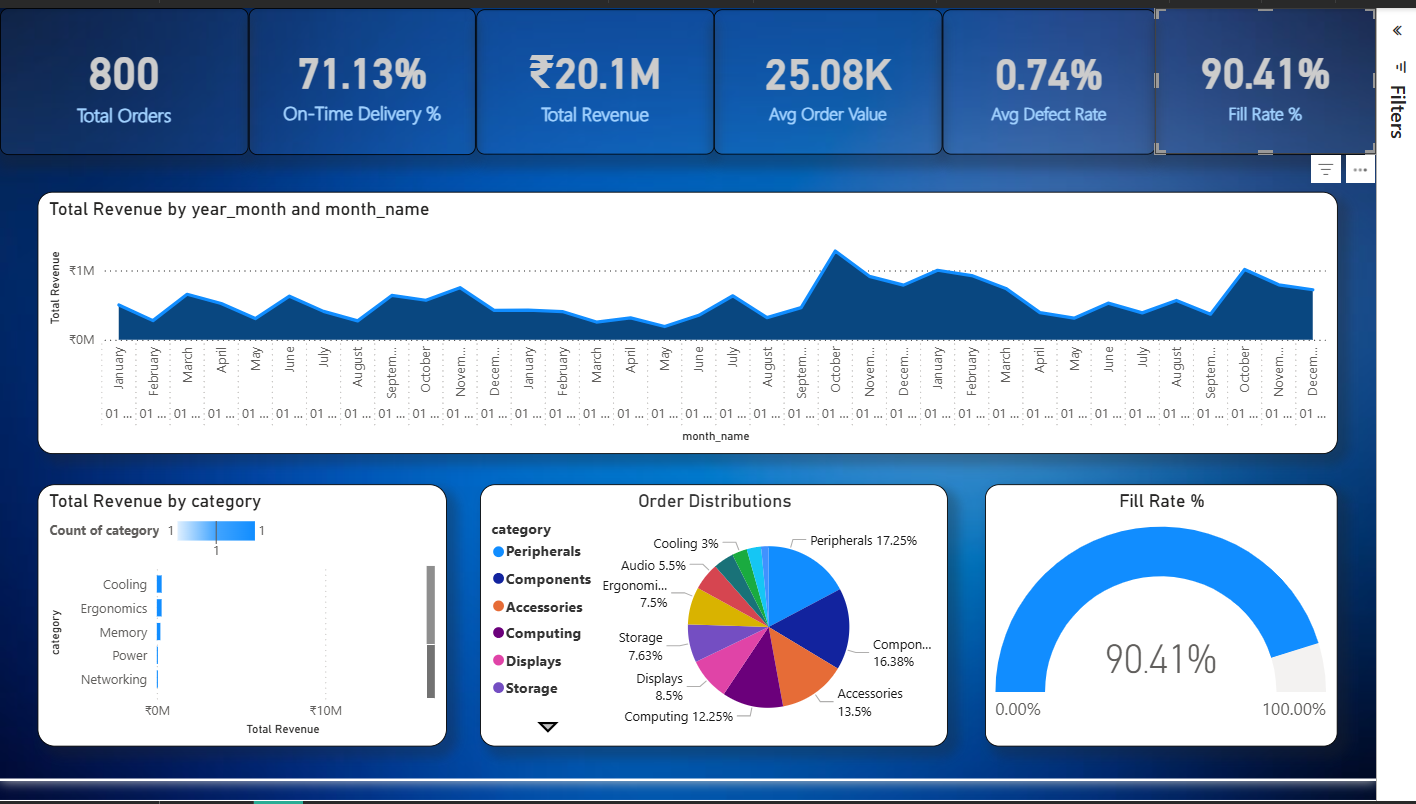

Layout of this report page (visuals, bound fields, positions):
{"tool":"powerbi","page":{"name":"Page 1","canvas":[1280,720],"ordinal":0},"visuals":[{"type":"card","fields":{"Values":["dim_dates.Total Revenue"]},"box":[442.6,1.4,221.3,135.1],"z":0},{"type":"card","fields":{"Values":["dim_dates.Total Orders"]},"box":[0,0,231.3,136.5],"z":1000},{"type":"card","fields":{"Values":["dim_dates.On-Time Delivery %"]},"box":[231.3,0,211.2,136.5],"z":2000},{"type":"card","fields":{"Values":["dim_dates.Avg Order Value"]},"box":[663.9,1.4,212.7,135.1],"z":3000},{"type":"card","fields":{"Values":["fact_orders.Avg Defect Rate"]},"box":[876.5,1.4,198.3,135.1],"z":4000},{"type":"card","fields":{"Values":["fact_orders.Fill Rate %"]},"box":[1074.8,0,205.5,136.5],"z":5000},{"type":"lineChart","fields":{"Category":["dim_dates.year_month","dim_dates.month_name"],"Y":["dim_dates.Total Revenue"]},"box":[34.5,171,1209.9,244.3],"z":6000},{"type":"clusteredBarChart","fields":{"Category":["dim_products.category"],"Y":["dim_dates.Total Revenue"]},"box":[34.5,442.6,380.8,244.3],"z":7000},{"type":"pieChart","title":"Order Distributions","fields":{"Category":["dim_products.category"],"Y":["dim_dates.Total Orders"]},"box":[446.9,442.6,435.4,244.3],"z":8000},{"type":"gauge","fields":{"Y":["fact_orders.Fill Rate %"]},"box":[916.8,442.6,327.6,244.3],"z":9000}]}

Visuals, with their boxes on the page's 1280x720 design canvas (x1, y1, x2, y2). These are canvas units, not pixel positions in the 1416x804 screenshot, which may show the page scaled, cropped or inside an application window:
card - dim_dates.Total Revenue: 443,1,664,136
card - dim_dates.Total Orders: 0,0,231,136
card - dim_dates.On-Time Delivery %: 231,0,442,136
card - dim_dates.Avg Order Value: 664,1,877,136
card - fact_orders.Avg Defect Rate: 876,1,1075,136
card - fact_orders.Fill Rate %: 1075,0,1280,136
lineChart - dim_dates.year_month x dim_dates.month_name: 34,171,1244,415
clusteredBarChart - dim_products.category x dim_dates.Total Revenue: 34,443,415,687
"Order Distributions" pieChart: 447,443,882,687
gauge - fact_orders.Fill Rate %: 917,443,1244,687
